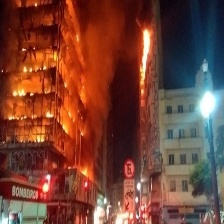fire: (140, 26, 151, 86), (7, 112, 53, 120), (10, 88, 29, 96), (31, 136, 47, 143), (61, 124, 70, 135), (80, 169, 90, 178), (23, 67, 33, 74)
smoke: (83, 1, 117, 157)
